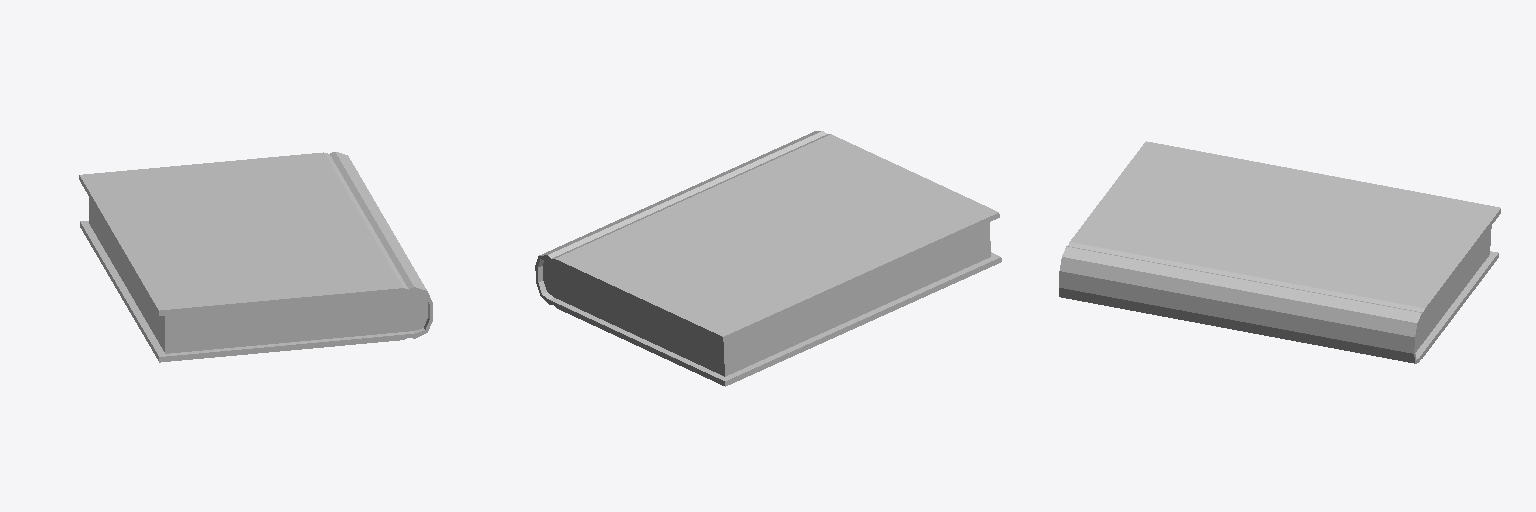
Rendered from fission_for_dummies.obj.
The picture shows the model from 3 angles: view 1: azimuth 30°, elevation 25°; view 2: azimuth 150°, elevation 25°; view 3: azimuth 270°, elevation 25°; orthographic projection.
Parts seen in each view (by area): view 1: Cube.006; view 2: Cube.006; view 3: Cube.006.
Part boxes in pixels (bbox=[...]): Cube.006: bbox=[79, 152, 432, 362]; Cube.006: bbox=[535, 131, 1001, 386]; Cube.006: bbox=[1059, 141, 1500, 363].
Size of the model in its own units: 0.5196 by 0.104 by 0.6035.